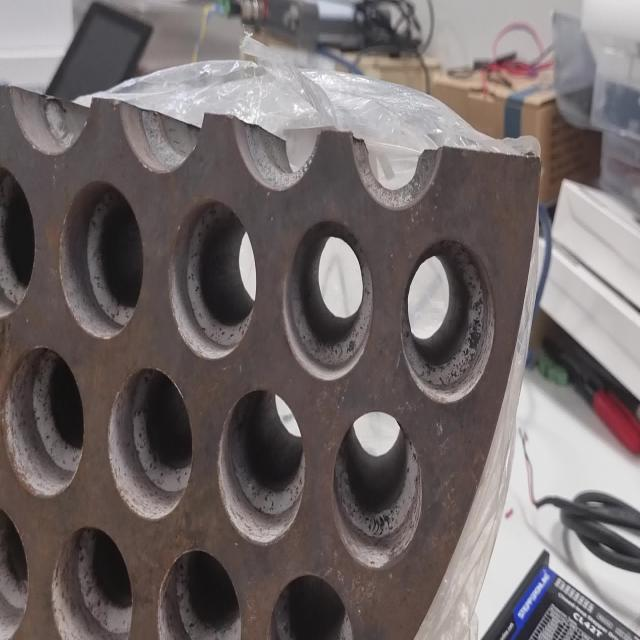Hole: (400, 236, 495, 404), (282, 219, 374, 381), (168, 200, 257, 360), (332, 412, 422, 570), (217, 386, 305, 546), (59, 180, 142, 340), (107, 366, 192, 522), (2, 346, 85, 498), (50, 524, 134, 640), (157, 546, 240, 640), (0, 164, 36, 318)
